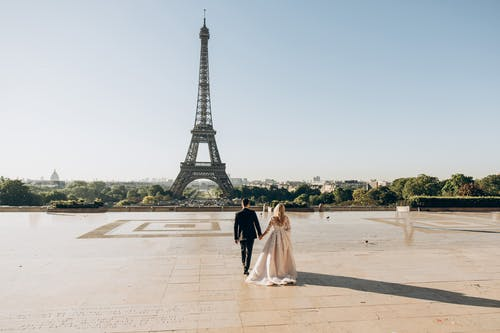eiffel tower: (146, 2, 247, 201)
